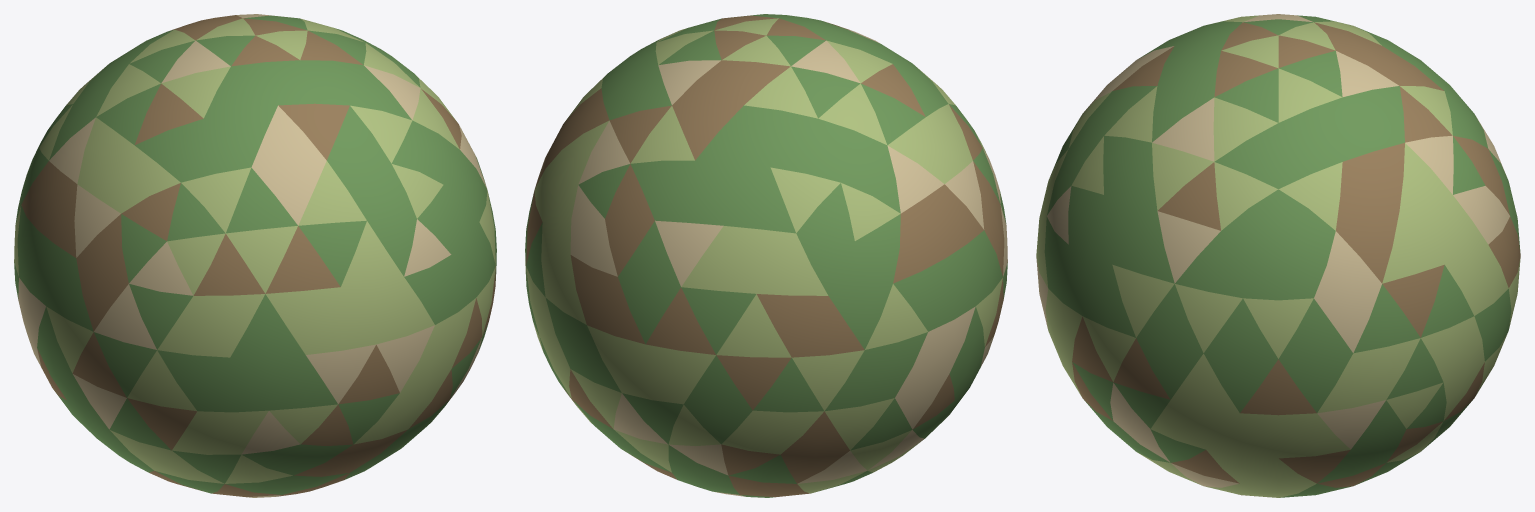
The picture shows the model from 3 angles, left to right: view 1: azimuth 30°, elevation 25°; view 2: azimuth 150°, elevation 25°; view 3: azimuth 270°, elevation 25°; orthographic projection.
Parts seen in each view (by area): view 1: SoccerBall_Camo; view 2: SoccerBall_Camo; view 3: SoccerBall_Camo.
Part boxes in pixels (<box>): SoccerBall_Camo: <box>14,14,496,497</box>; SoccerBall_Camo: <box>525,14,1007,497</box>; SoccerBall_Camo: <box>1036,14,1520,497</box>.
Size of the model in its own units: 1.96 by 1.97 by 1.96.
